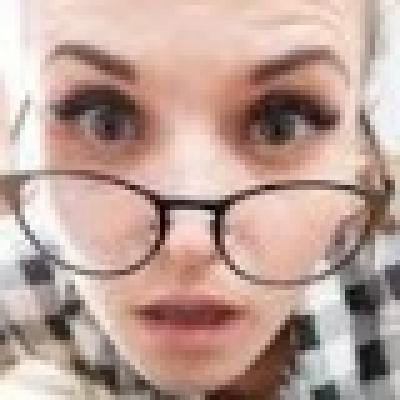surprise: (32, 1, 362, 385)
